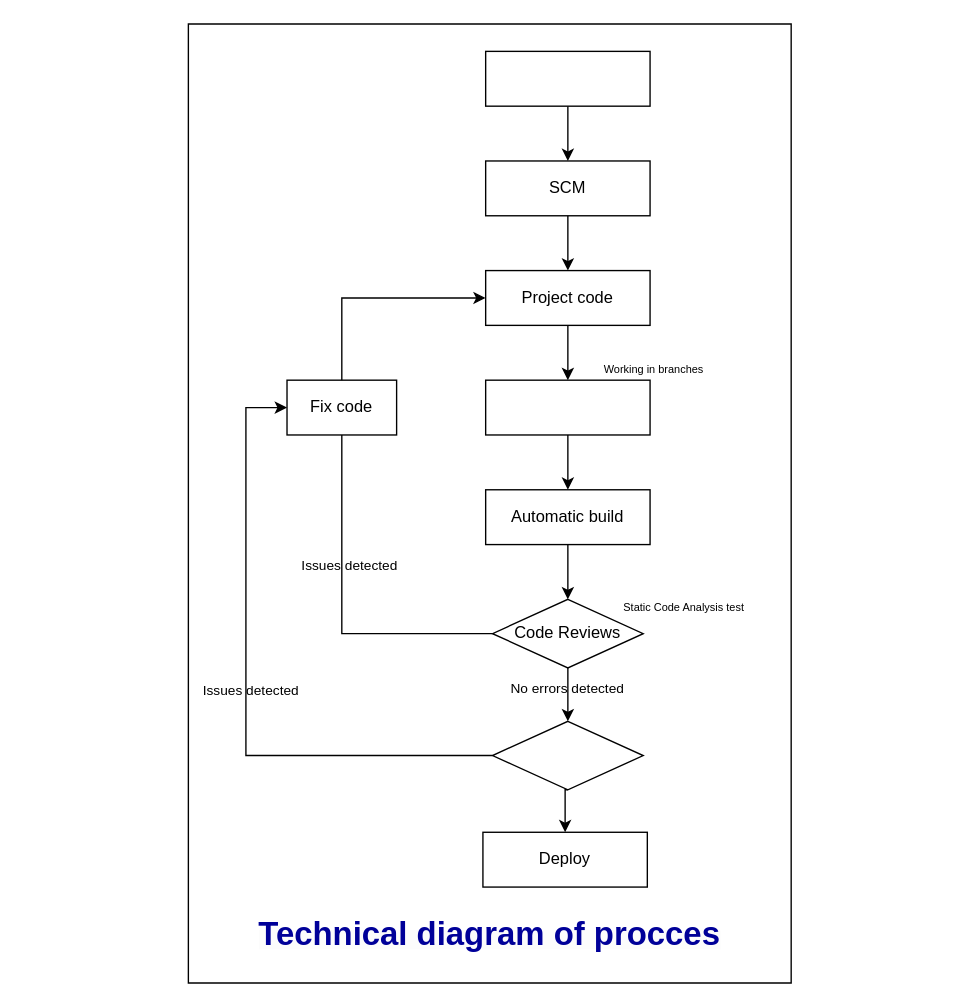
The diagram is 978 pixels wide and 1007 high, and some of its shapes have lost their labels. The box of each missing label's shape, as (x1, y1, x2, y2) in pixels:
Commit/Merge: (484, 379, 650, 435)
Tasks of Project: (484, 50, 650, 106)
Testing: (491, 720, 643, 790)
